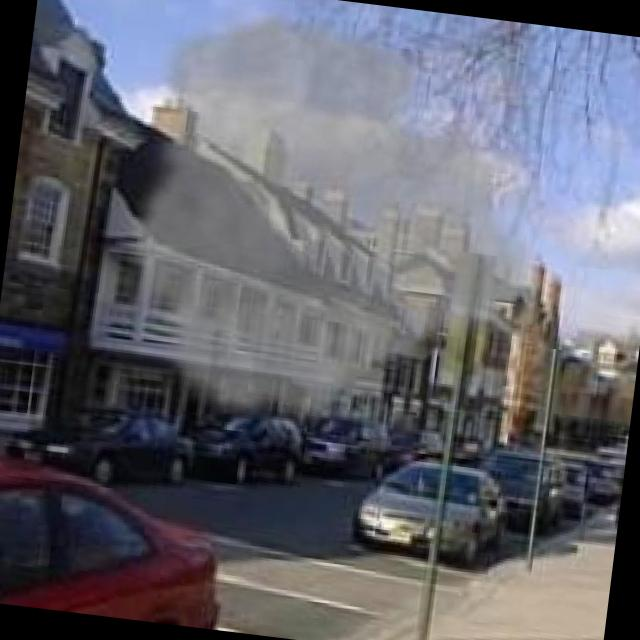Smoke: (103, 0, 576, 463)
